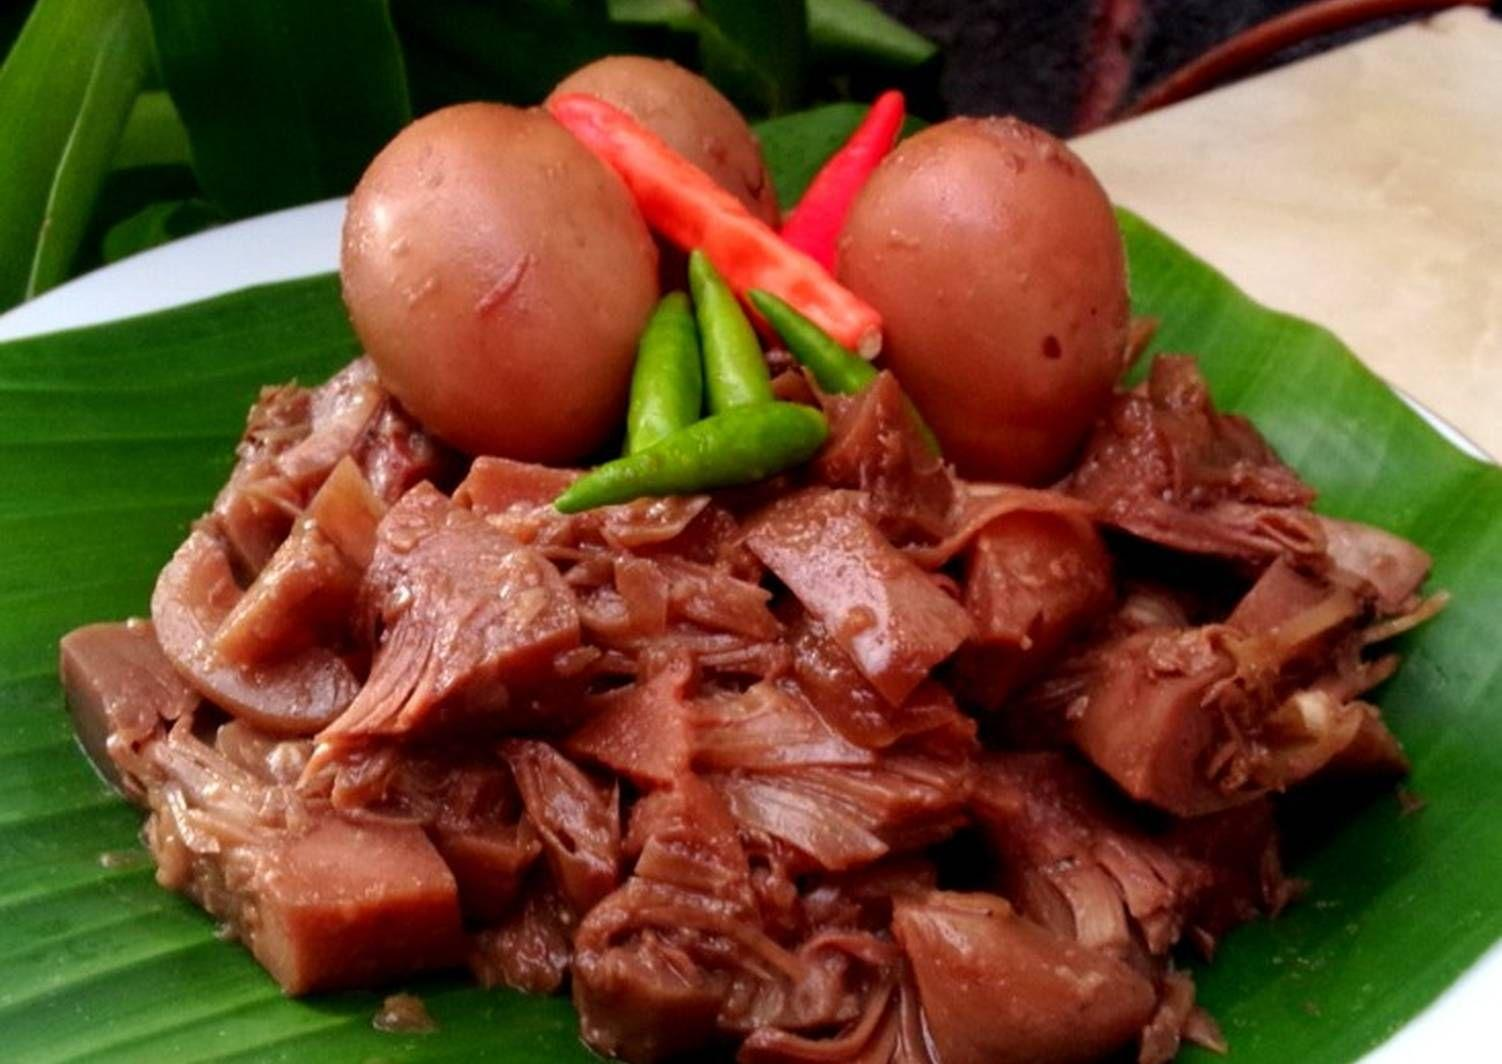gudeg: (58, 54, 1457, 1064)
